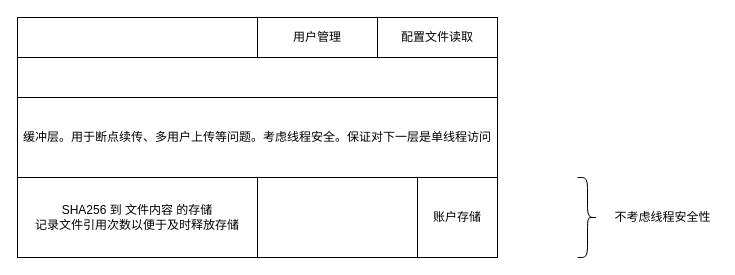
This 735x275 diagram has some shape labels left out. Here are the shapes that lost their labels. From the top down, the centre of each, then its label:
At point (137, 37): "http服务与websocket（有必要的话）".
At point (257, 77): "应用".
At point (337, 217): "路径 到 文件夹内容 的存储 也要提供文件复制的接口".
